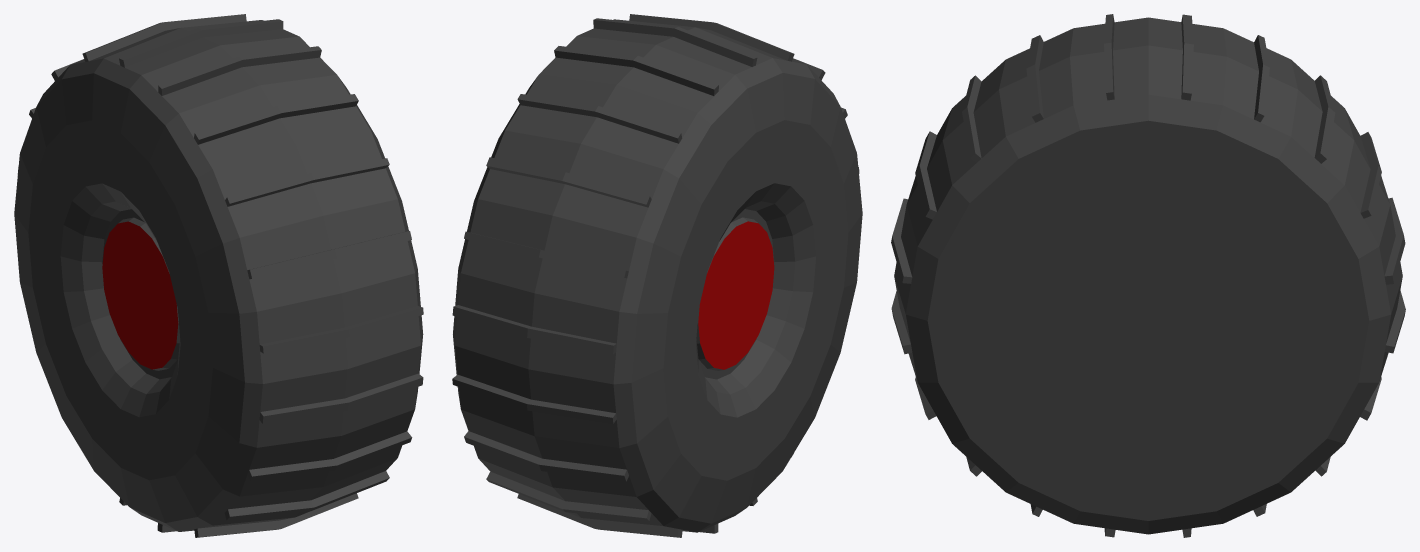
The model's file is jeep-wheel-01.fbx.
The picture shows the model from 3 angles, left to right: view 1: azimuth 30°, elevation 25°; view 2: azimuth 150°, elevation 25°; view 3: azimuth 270°, elevation 25°; orthographic projection.
Visible parts, largest first — view 1: polySurface301; view 2: polySurface301; view 3: polySurface301.
Part boxes in pixels (box(x1,y1,x2,y2)): polySurface301: box(14, 14, 423, 537); polySurface301: box(452, 14, 862, 537); polySurface301: box(891, 14, 1405, 537).
Bounding box in the file's own units: 1.07 × 2.49 × 2.49.
